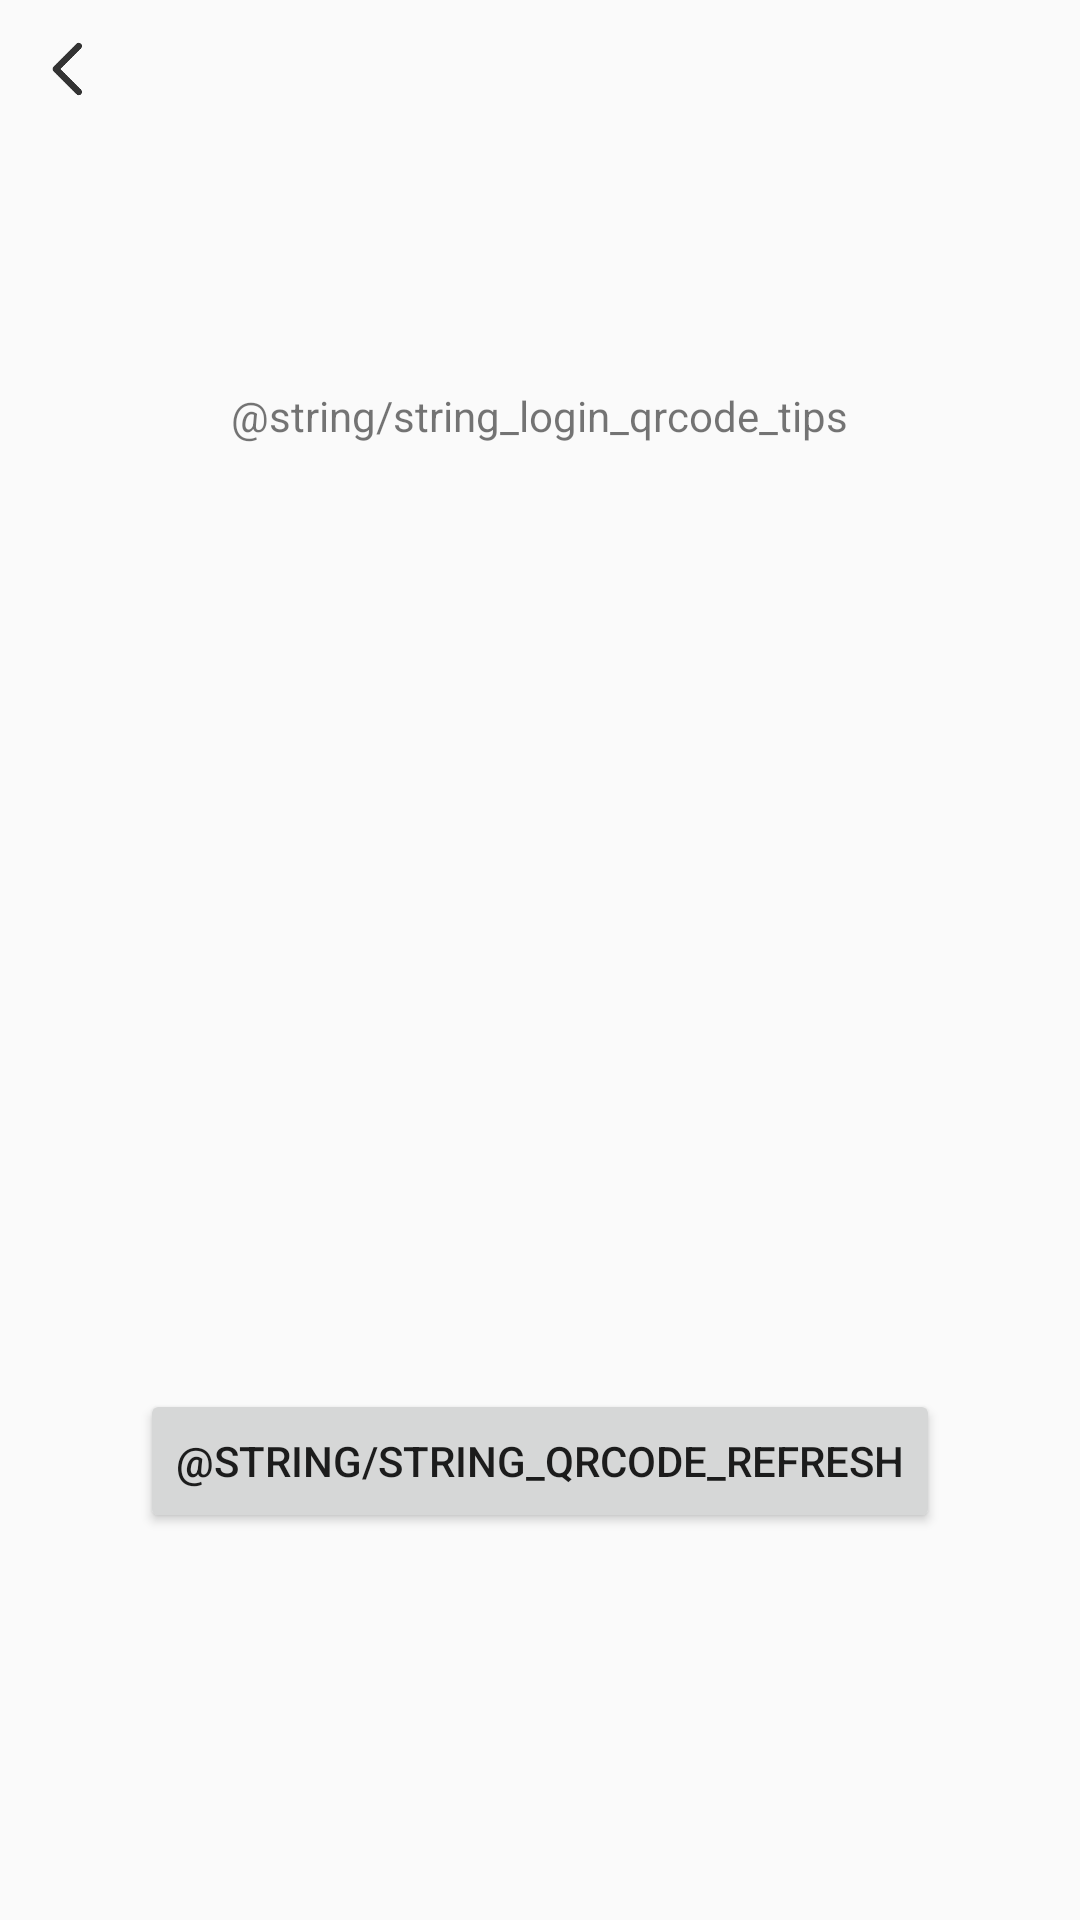

Screen size 1080 × 1920. Icon name, then its box in pixels as (x1, y1, x2, y2):
back: (52, 43, 82, 95)
